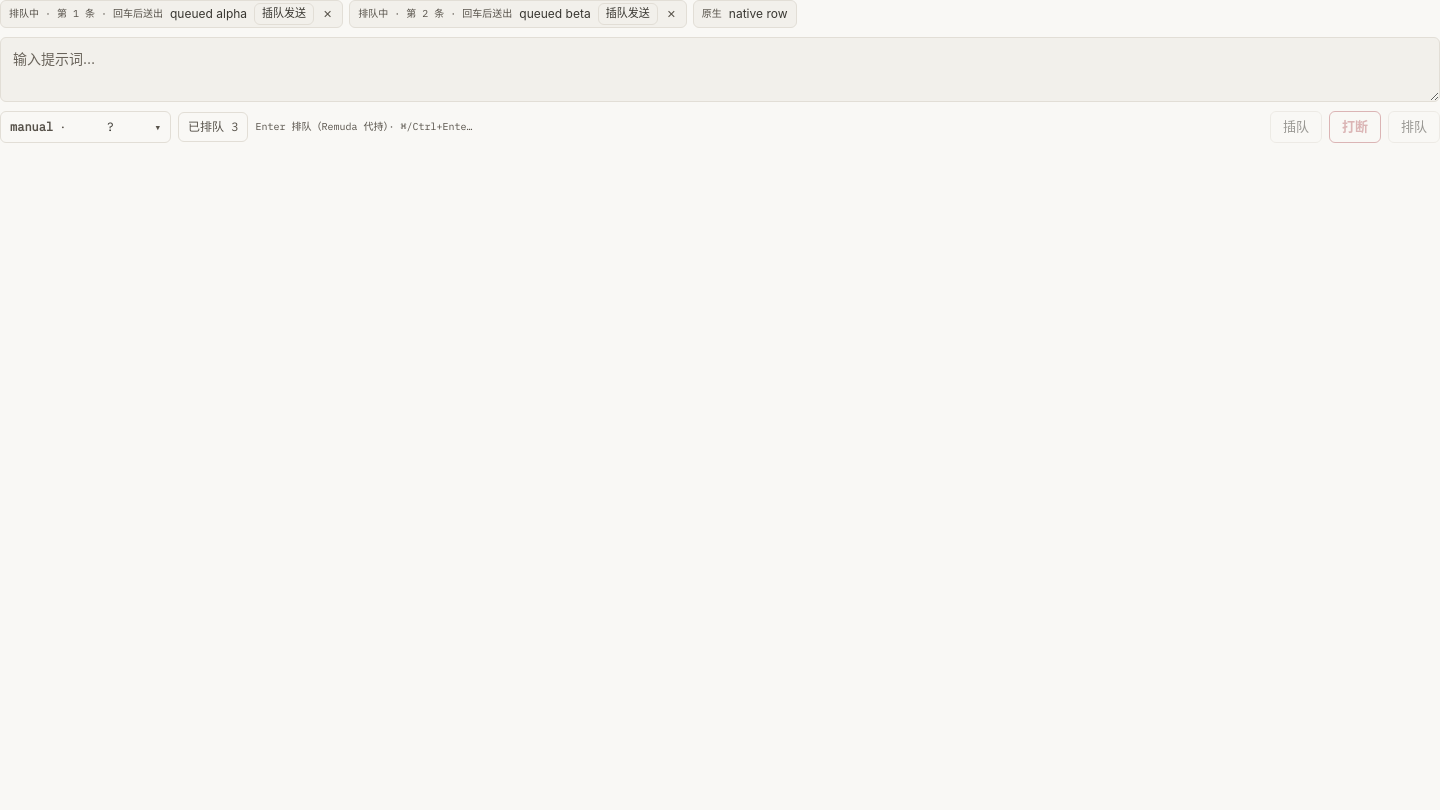
Test: Composer mobile (D-042): the three-state controls stay outside the options sheet › renders steer/interrupt/primary on the collapsed bar while options move into the sheet
The width and height of the screenshot is (1440, 810).
Expected: the button with test id "composer-steer" is shown, [1270, 111, 1322, 143]
Expected: the button with test id "composer-interrupt" is shown, [1329, 111, 1381, 143]
Note: Open the sheet: option-only controls are in there.
What coordinates should you click on to do the following:
click the button with test id "model-effort-chip"
I would click on:
 (86, 127)
Its box is [0, 111, 171, 143].
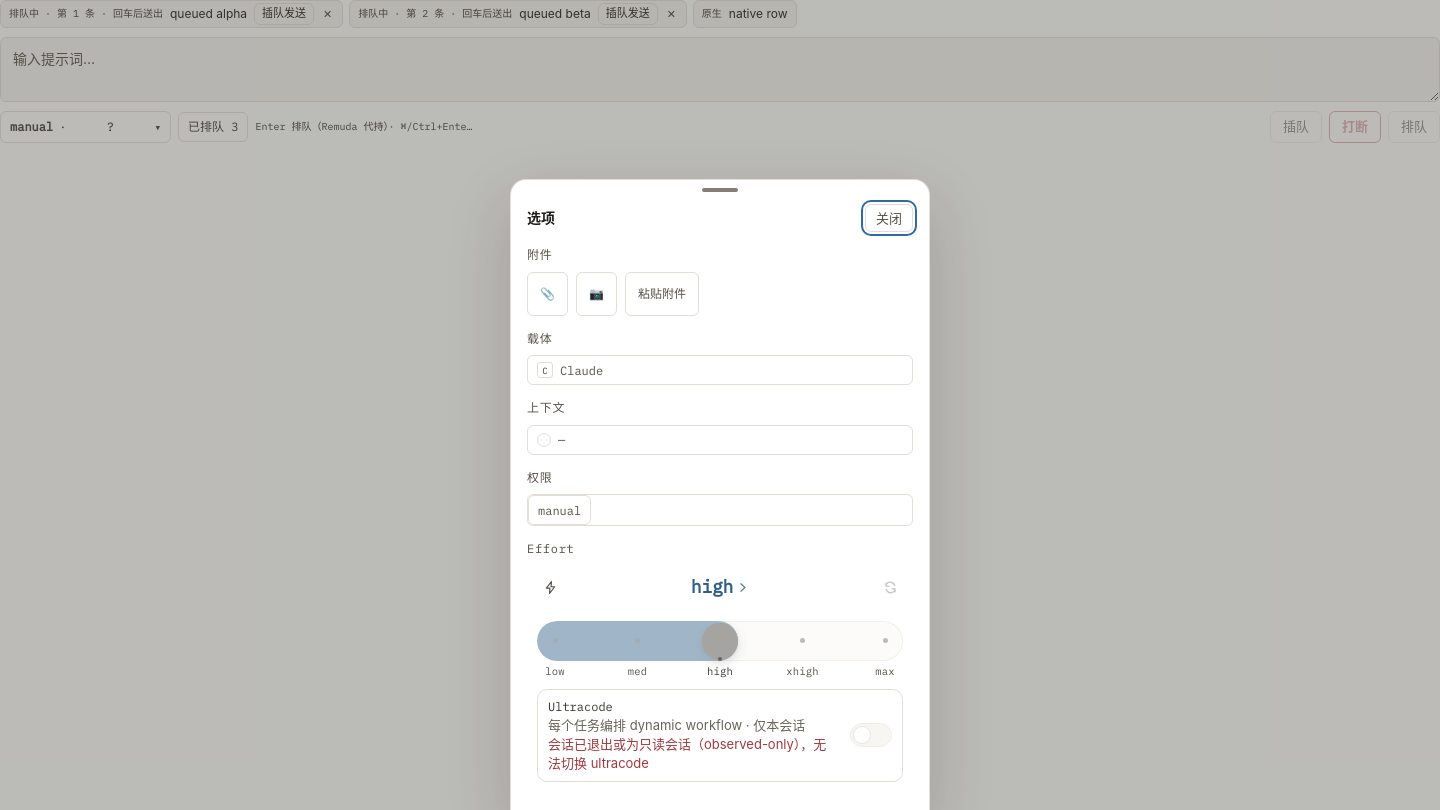
Result: the dialog with test id "composer-options-sheet" is shown at [510, 179, 930, 809]
